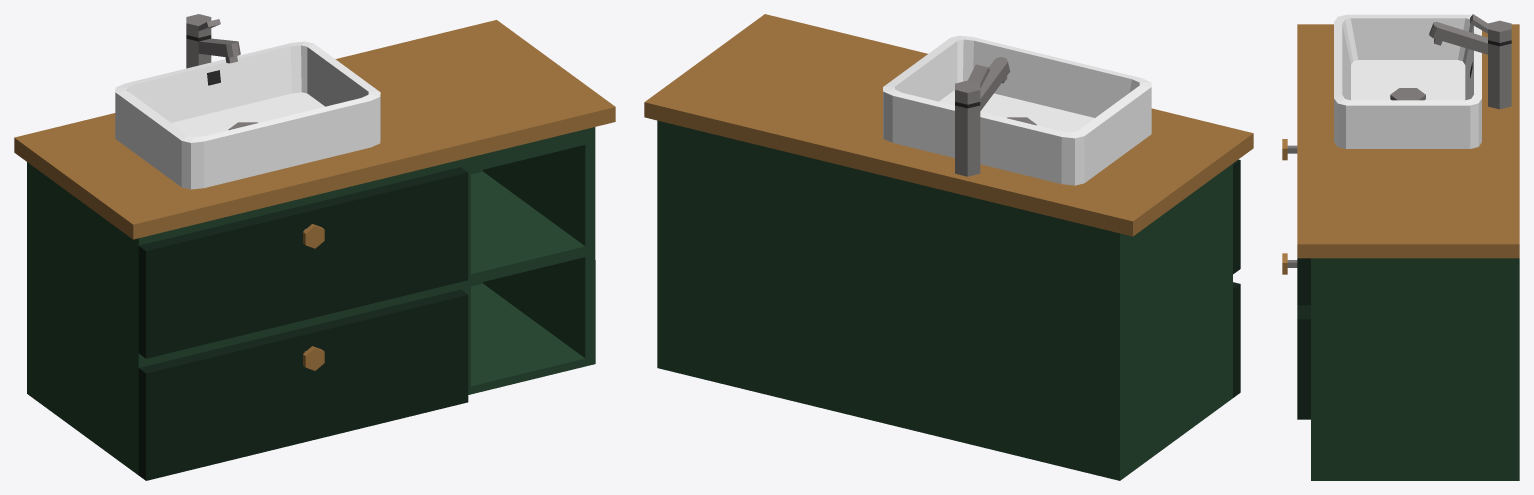
Rendered from furniture_cabinet-bathroom-long-sink.fbx.
3 renders of one model, left to right at view 1: azimuth 30°, elevation 25°; view 2: azimuth 150°, elevation 25°; view 3: azimuth 270°, elevation 25°, orthographic. The views are drawn at different scales.
Visible parts, largest first — view 1: furniture_cabinet_bathroom_long_sink; view 2: furniture_cabinet_bathroom_long_sink; view 3: furniture_cabinet_bathroom_long_sink.
Part boxes in pixels (x1,y1,x2,y2): furniture_cabinet_bathroom_long_sink: (14,14,615,480); furniture_cabinet_bathroom_long_sink: (644,14,1253,480); furniture_cabinet_bathroom_long_sink: (1282,14,1519,480).
Bounding box in the file's own units: 200 × 140 × 91.23.
